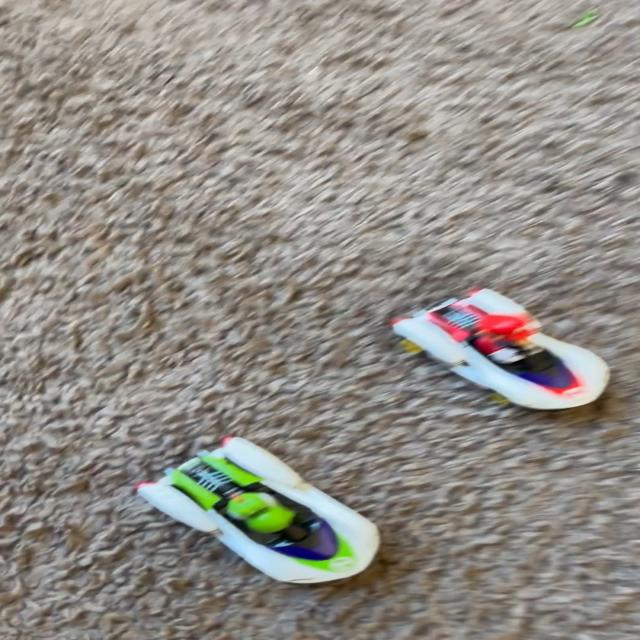mario: (382, 280, 632, 420)
yoshi: (114, 414, 402, 601)
